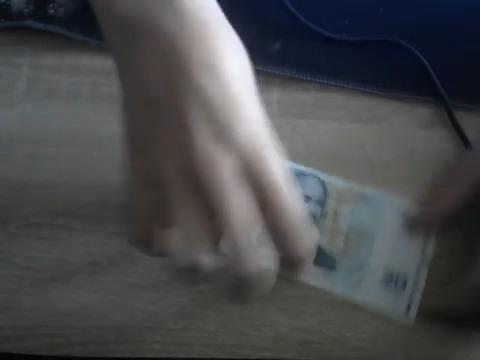20leva: (289, 164, 433, 325)
